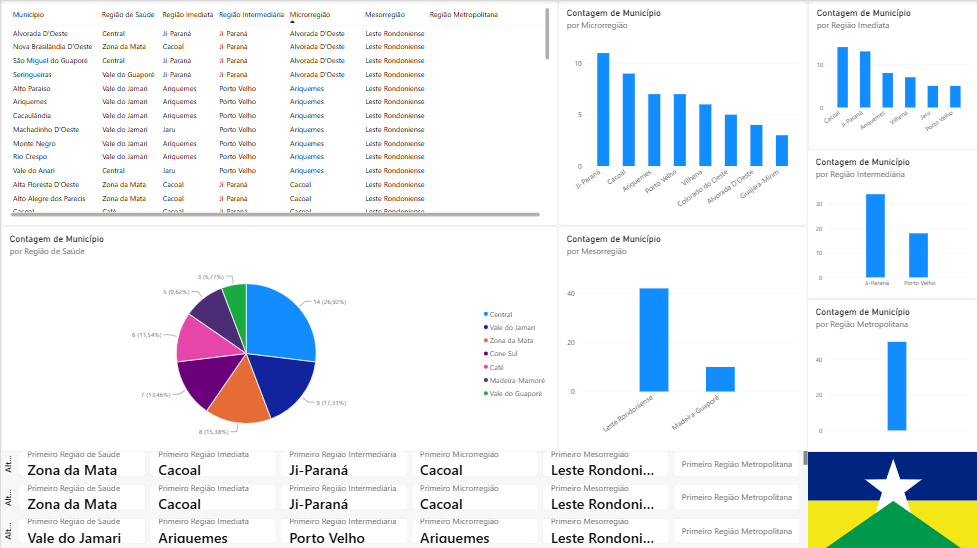

The page's visual inventory and layout, read from the dashboard file:
{"tool":"powerbi","page":{"name":"Regiões de Rondônia","canvas":[1920,1080],"ordinal":0},"visuals":[{"type":"tableEx","fields":{"Values":["_regiões_dos_municípios_de_Rondônia_select_nome_AS_municipio_nom_202609270300.Column1","_regiões_dos_municípios_de_Rondônia_select_nome_AS_municipio_nom_202609270300.Column2","_regiões_dos_municípios_de_Rondônia_select_nome_AS_municipio_nom_202609270300.Column3","_regiões_dos_municípios_de_Rondônia_select_nome_AS_municipio_nom_202609270300.Column4","_regiões_dos_municípios_de_Rondônia_select_nome_AS_municipio_nom_202609270300.Column5","_regiões_dos_municípios_de_Rondônia_select_nome_AS_municipio_nom_202609270300.Column6","_regiões_dos_municípios_de_Rondônia_select_nome_AS_municipio_nom_202609270300.Column7"]},"box":[0,0,1094.3,442.9],"z":0},{"type":"pieChart","fields":{"Category":["_regiões_dos_municípios_de_Rondônia_select_nome_AS_municipio_nom_202609270300.Região de Saúde"],"Y":["CountNonNull(_regiões_dos_municípios_de_Rondônia_select_nome_AS_municipio_nom_202609270300.Município)"]},"box":[0,444.3,1094.3,442.9],"z":1000},{"type":"columnChart","fields":{"Category":["_regiões_dos_municípios_de_Rondônia_select_nome_AS_municipio_nom_202609270300.Microrregião"],"Y":["CountNonNull(_regiões_dos_municípios_de_Rondônia_select_nome_AS_municipio_nom_202609270300.Município)"]},"box":[1093.6,0,490,443],"z":2000},{"type":"columnChart","fields":{"Category":["_regiões_dos_municípios_de_Rondônia_select_nome_AS_municipio_nom_202609270300.Mesorregião"],"Y":["CountNonNull(_regiões_dos_municípios_de_Rondônia_select_nome_AS_municipio_nom_202609270300.Município)"]},"box":[1094,444,490,443],"z":3000},{"type":"columnChart","fields":{"Category":["_regiões_dos_municípios_de_Rondônia_select_nome_AS_municipio_nom_202609270300.Região Imediata"],"Y":["CountNonNull(_regiões_dos_municípios_de_Rondônia_select_nome_AS_municipio_nom_202609270300.Município)"]},"box":[1584,0,336,294],"z":4000},{"type":"columnChart","fields":{"Category":["_regiões_dos_municípios_de_Rondônia_select_nome_AS_municipio_nom_202609270300.Região Intermediária"],"Y":["CountNonNull(_regiões_dos_municípios_de_Rondônia_select_nome_AS_municipio_nom_202609270300.Município)"]},"box":[1583.3,293.3,336,294],"z":5000},{"type":"columnChart","fields":{"Category":["_regiões_dos_municípios_de_Rondônia_select_nome_AS_municipio_nom_202609270300.Região Metropolitana"],"Y":["CountNonNull(_regiões_dos_municípios_de_Rondônia_select_nome_AS_municipio_nom_202609270300.Município)"]},"box":[1583,587,336,300],"z":6000},{"type":"cardVisual","fields":{"Data":["Min(_regiões_dos_municípios_de_Rondônia_select_nome_AS_municipio_nom_202609270300.Região de Saúde)","Min(_regiões_dos_municípios_de_Rondônia_select_nome_AS_municipio_nom_202609270300.Região Imediata)","Min(_regiões_dos_municípios_de_Rondônia_select_nome_AS_municipio_nom_202609270300.Região Intermediária)","Min(_regiões_dos_municípios_de_Rondônia_select_nome_AS_municipio_nom_202609270300.Microrregião)","Min(_regiões_dos_municípios_de_Rondônia_select_nome_AS_municipio_nom_202609270300.Mesorregião)","Min(_regiões_dos_municípios_de_Rondônia_select_nome_AS_municipio_nom_202609270300.Região Metropolitana)"],"Rows":["_regiões_dos_municípios_de_Rondônia_select_nome_AS_municipio_nom_202609270300.Município"]},"box":[2,886,1582,192],"z":7000},{"type":"image","box":[1584,887,335,191],"z":8000}]}

Visuals, with their boxes in screenshot pixels (x1, y1, x2, y2), scaled from the page's 1920x1080 canvas onto the 977x548 screenshot:
tableEx - _regiões_dos_municípios_de_Rondônia_select_nome_AS_municipio_nom_202609270300.Column1 x _regiões_dos_municípios_de_Rondônia_select_nome_AS_municipio_nom_202609270300.Column2: 0,0,557,225
pieChart - _regiões_dos_municípios_de_Rondônia_select_nome_AS_municipio_nom_202609270300.Região de Saúde x CountNonNull(_regiões_dos_municípios_de_Rondônia_select_nome_AS_municipio_nom_202609270300.Município): 0,225,557,450
columnChart - _regiões_dos_municípios_de_Rondônia_select_nome_AS_municipio_nom_202609270300.Microrregião x CountNonNull(_regiões_dos_municípios_de_Rondônia_select_nome_AS_municipio_nom_202609270300.Município): 556,0,806,225
columnChart - _regiões_dos_municípios_de_Rondônia_select_nome_AS_municipio_nom_202609270300.Mesorregião x CountNonNull(_regiões_dos_municípios_de_Rondônia_select_nome_AS_municipio_nom_202609270300.Município): 557,225,806,450
columnChart - _regiões_dos_municípios_de_Rondônia_select_nome_AS_municipio_nom_202609270300.Região Imediata x CountNonNull(_regiões_dos_municípios_de_Rondônia_select_nome_AS_municipio_nom_202609270300.Município): 806,0,976,149
columnChart - _regiões_dos_municípios_de_Rondônia_select_nome_AS_municipio_nom_202609270300.Região Intermediária x CountNonNull(_regiões_dos_municípios_de_Rondônia_select_nome_AS_municipio_nom_202609270300.Município): 806,149,976,298
columnChart - _regiões_dos_municípios_de_Rondônia_select_nome_AS_municipio_nom_202609270300.Região Metropolitana x CountNonNull(_regiões_dos_municípios_de_Rondônia_select_nome_AS_municipio_nom_202609270300.Município): 806,298,976,450
cardVisual - Min(_regiões_dos_municípios_de_Rondônia_select_nome_AS_municipio_nom_202609270300.Região de Saúde) x Min(_regiões_dos_municípios_de_Rondônia_select_nome_AS_municipio_nom_202609270300.Região Imediata): 1,450,806,547
image: 806,450,976,547
